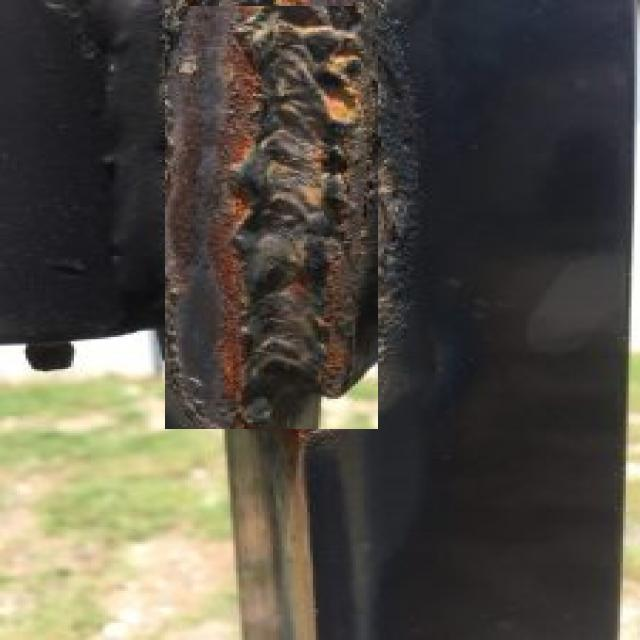Corrosion: (168, 0, 376, 397)
